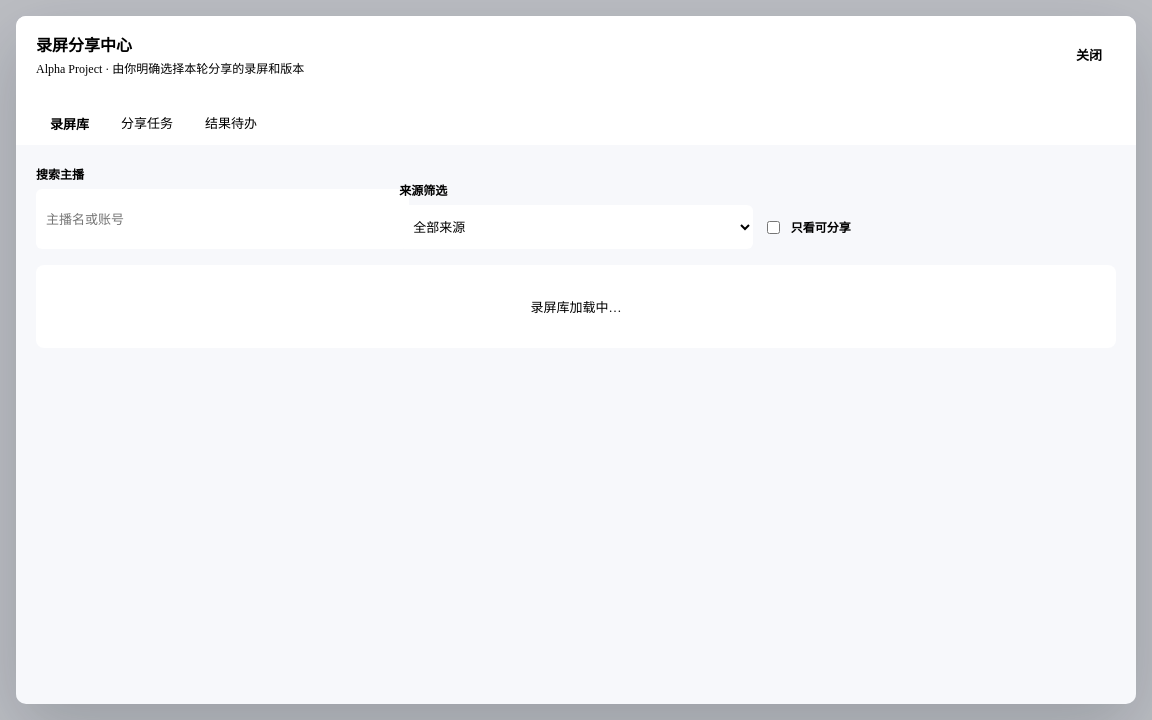
Test: AdmissionShareCenter › keeps loaded tasks visible while a failed next page is retried
Click the tab "分享任务" at (147,123), box [107, 101, 187, 145]
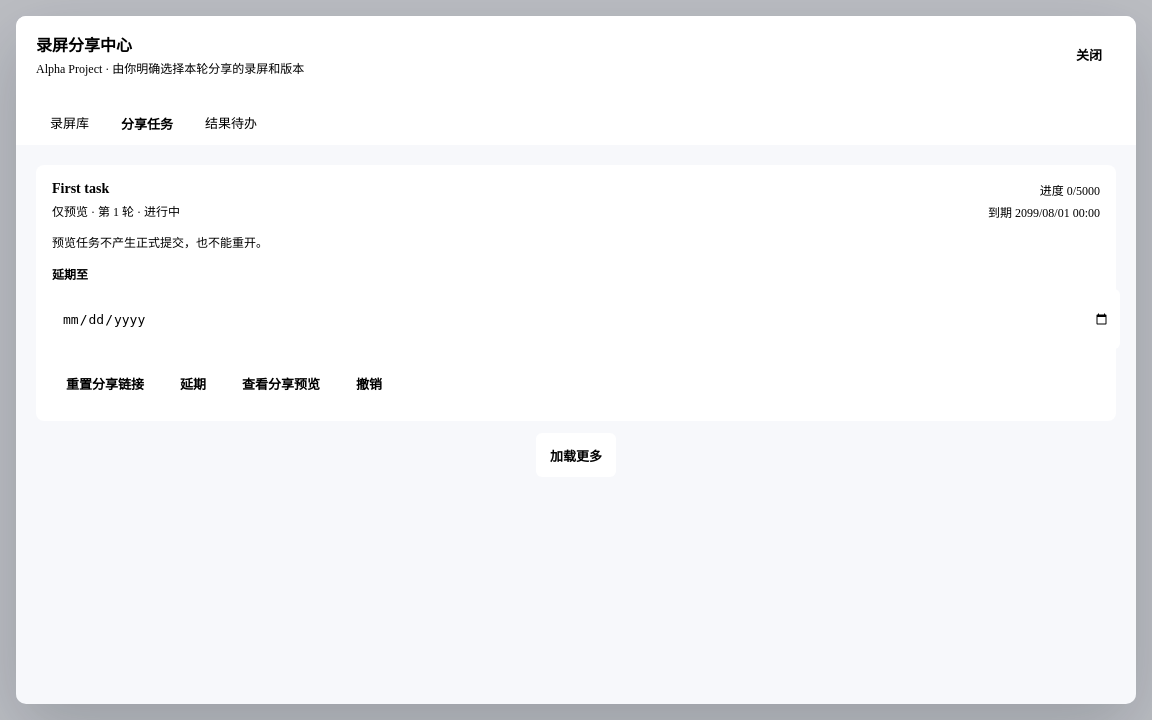
Now the text "First task" is shown, box [52, 181, 109, 196]
Click the button with aria-label "加载更多分享任务" at (576,455), box [536, 433, 616, 477]
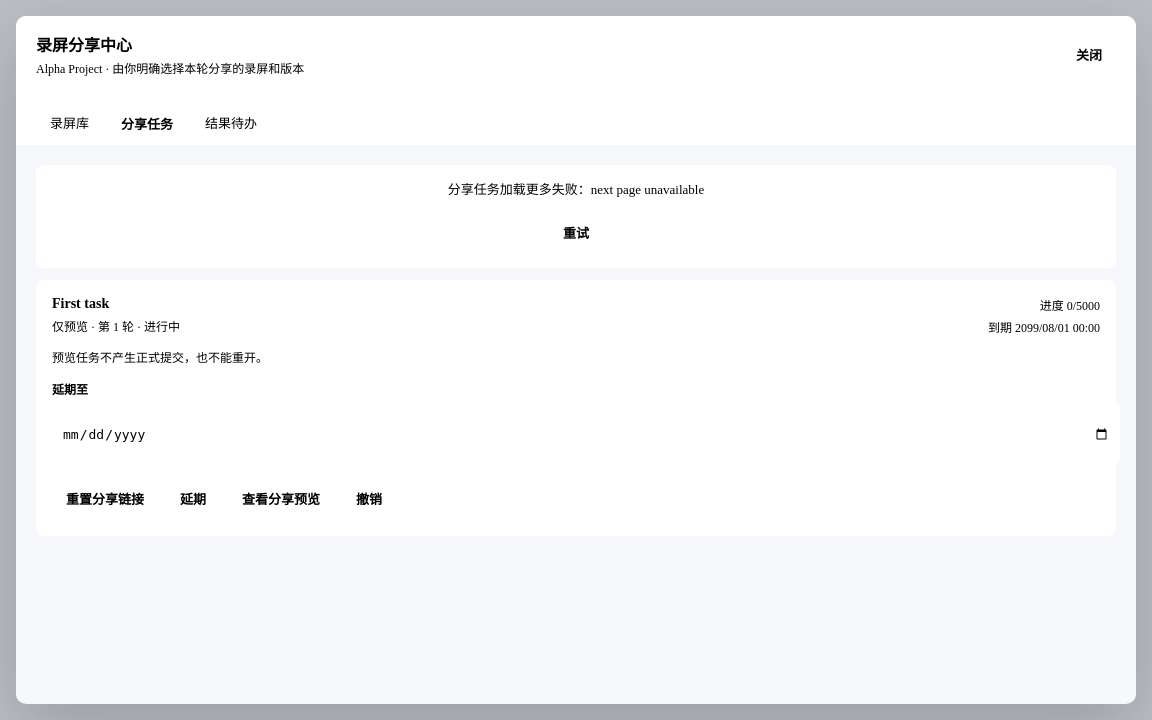
Now the text "First task" is shown, box [52, 296, 109, 311]
Now the message shows "next page unavailable", box [591, 182, 704, 197]
Click the button with aria-label "重试加载更多分享任务" at (576,232), box [549, 210, 603, 254]
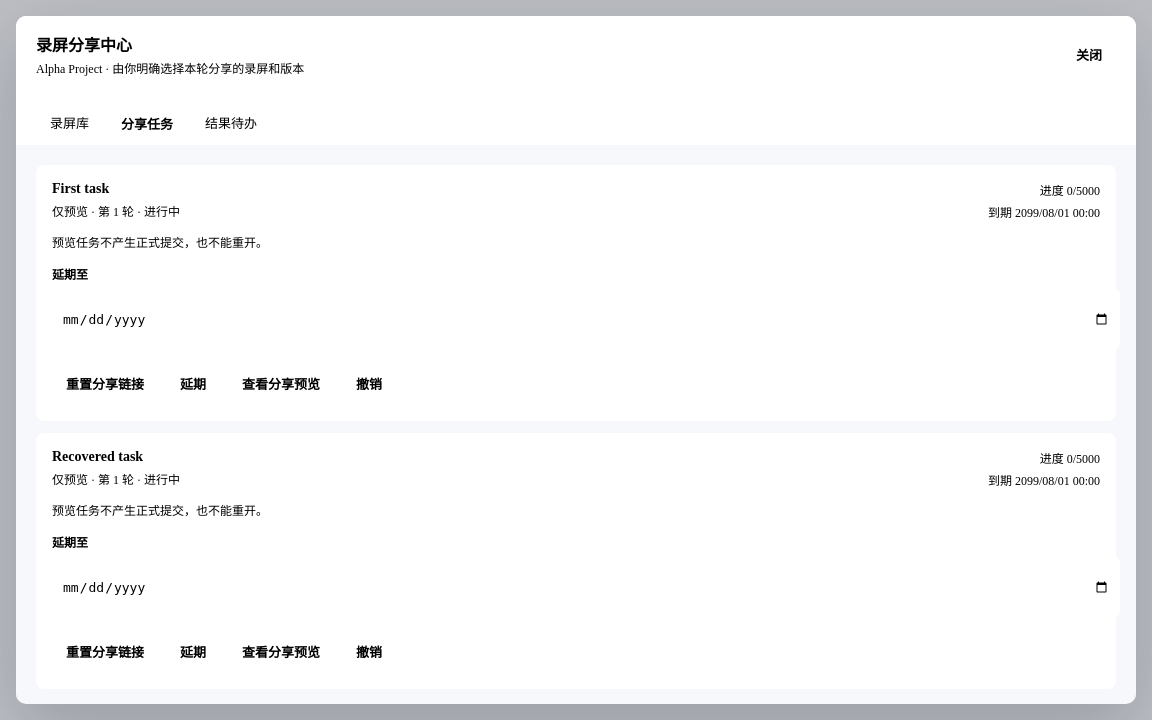
Now the text "Recovered task" is shown, box [52, 449, 143, 464]
